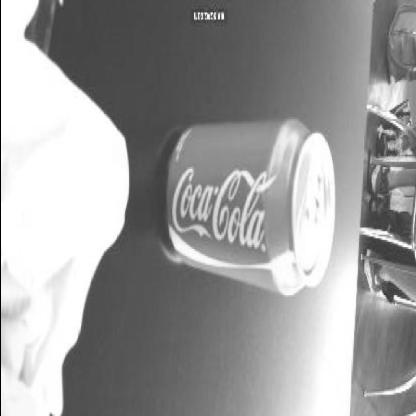alumunium_can: (162, 116, 336, 296)
